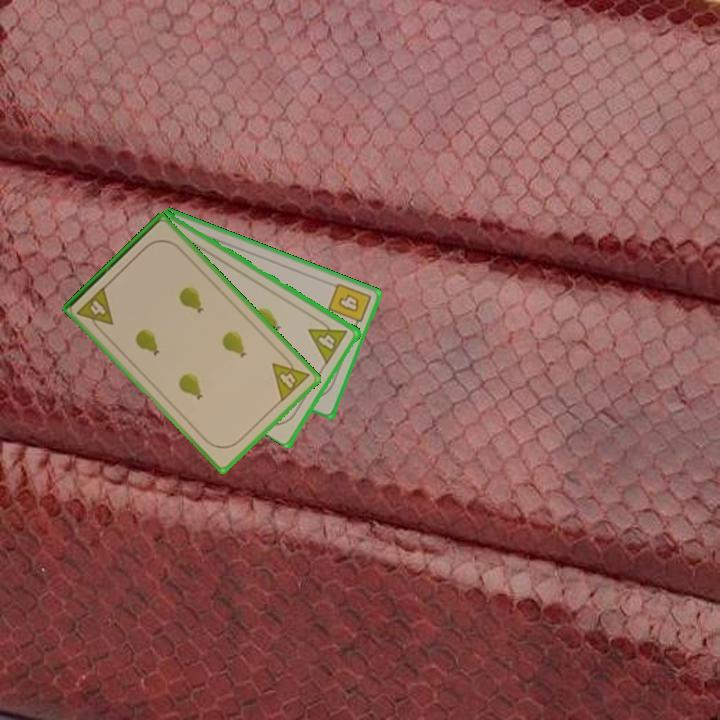4b: (324, 279, 374, 332)
4p: (268, 350, 313, 405), (305, 314, 351, 366), (73, 283, 117, 336)
